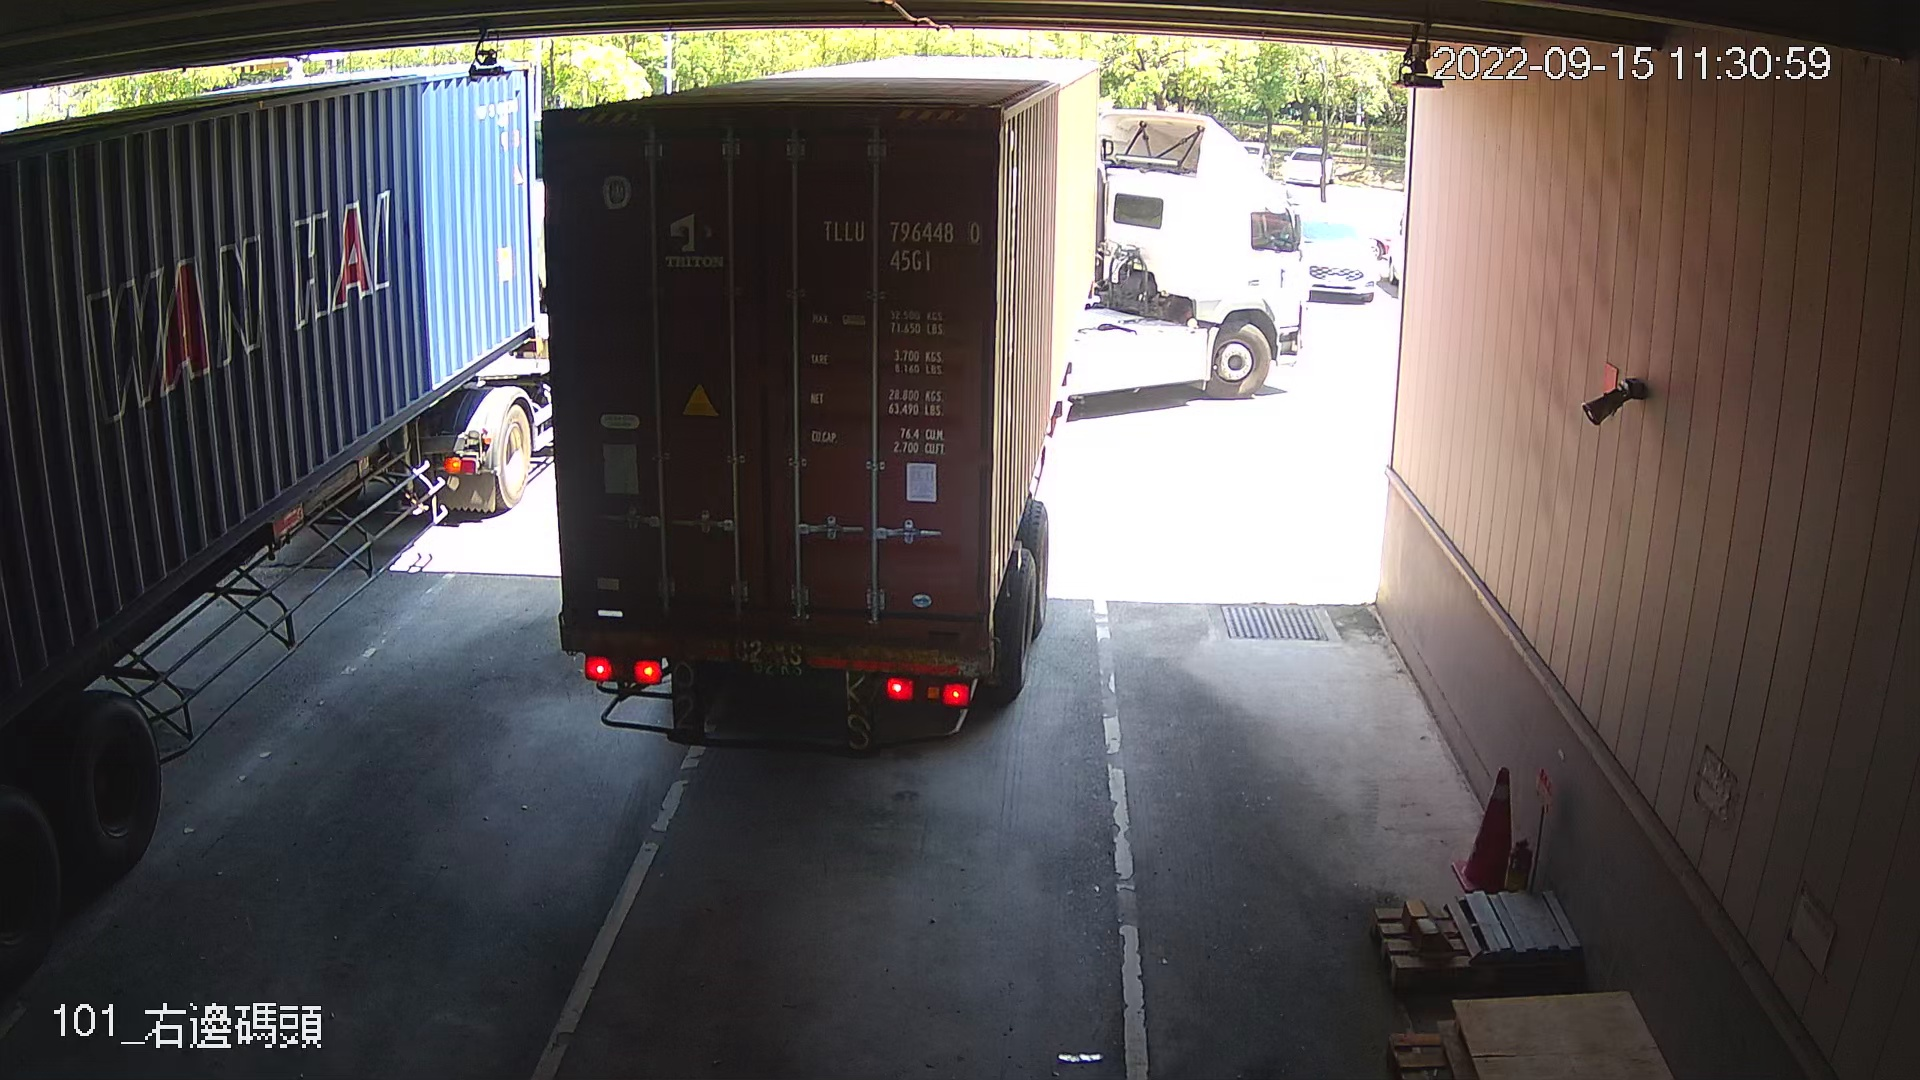container: (814, 208, 992, 282)
